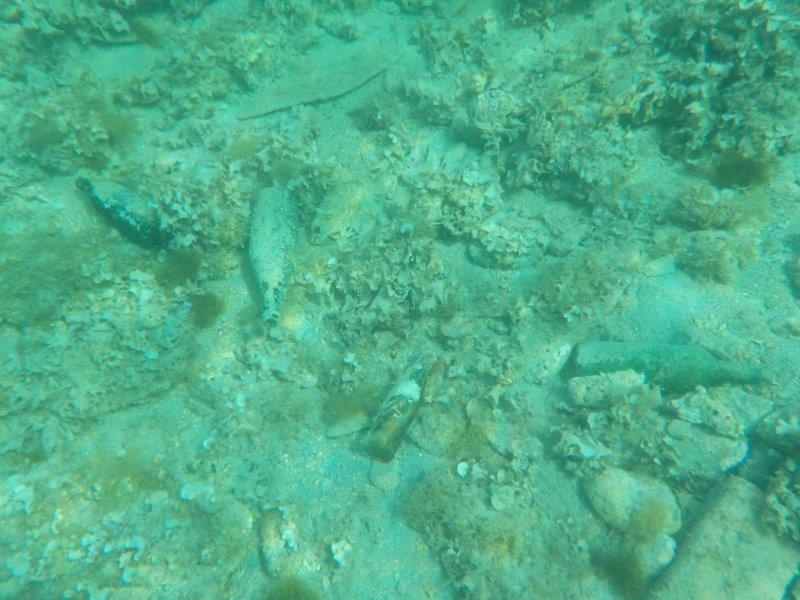bottle: (570, 335, 771, 396), (358, 347, 442, 464), (245, 187, 304, 327), (73, 173, 164, 247)
